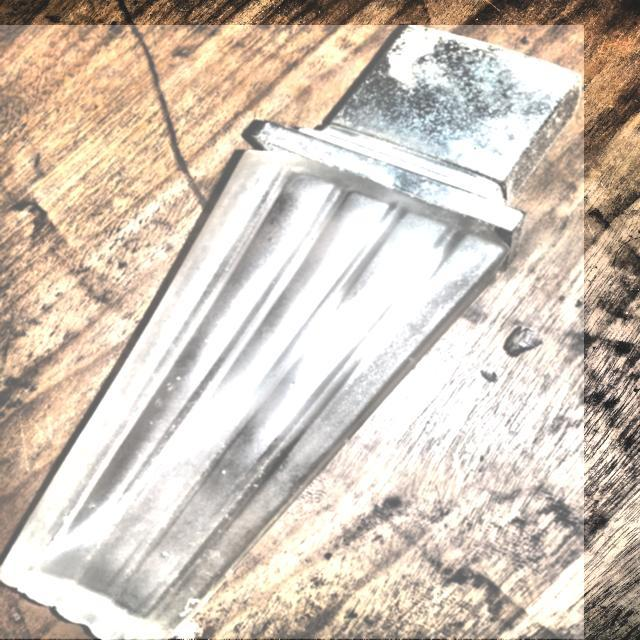anorganik: (0, 25, 584, 640)
